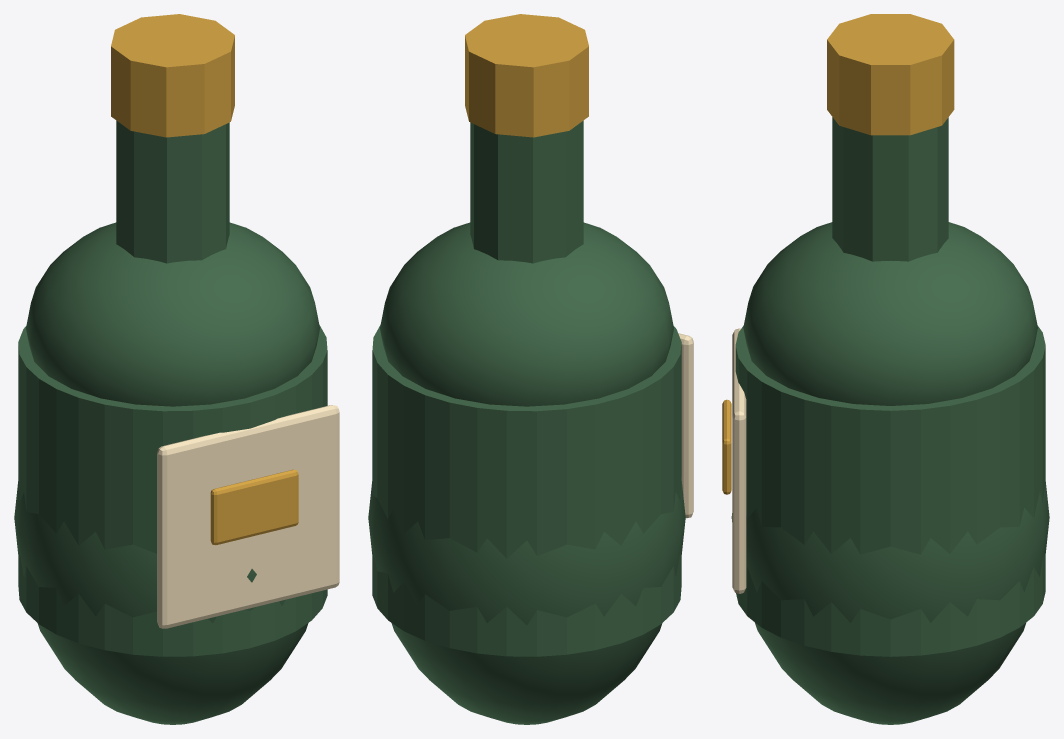
File: food_terremoto_runtime.glb
3 views of the same model, side by side, from view 1: azimuth 30°, elevation 25°; view 2: azimuth 150°, elevation 25°; view 3: azimuth 270°, elevation 25° (orthographic).
Parts seen in each view (by area): view 1: Bottle shoulder, Cylinder, Label, Bottle base, Neck, Cork, Label emblem; view 2: Cylinder, Bottle shoulder, Bottle base, Neck, Cork, Label; view 3: Cylinder, Bottle shoulder, Bottle base, Neck, Cork, Label, Label emblem.
Boxes of the visible parts, x1,y1,x2,y2 form: Bottle shoulder: [26, 222, 319, 406]; Cylinder: [18, 325, 327, 656]; Label: [157, 405, 339, 628]; Bottle base: [14, 476, 308, 724]; Neck: [116, 120, 229, 263]; Cork: [111, 14, 234, 137]; Label emblem: [210, 469, 298, 545]; Cylinder: [372, 325, 681, 656]; Bottle shoulder: [380, 222, 673, 406]; Bottle base: [368, 476, 685, 724]; Neck: [470, 120, 583, 263]; Cork: [465, 14, 588, 137]; Label: [678, 333, 693, 518]; Cylinder: [735, 325, 1045, 656]; Bottle shoulder: [743, 222, 1037, 405]; Bottle base: [731, 482, 1049, 724]; Neck: [832, 117, 948, 261]; Cork: [827, 14, 954, 135]; Label: [732, 328, 746, 593]; Label emblem: [722, 399, 731, 494].
Bounding box in the file's own units: 0.41 × 0.96 × 0.422.
